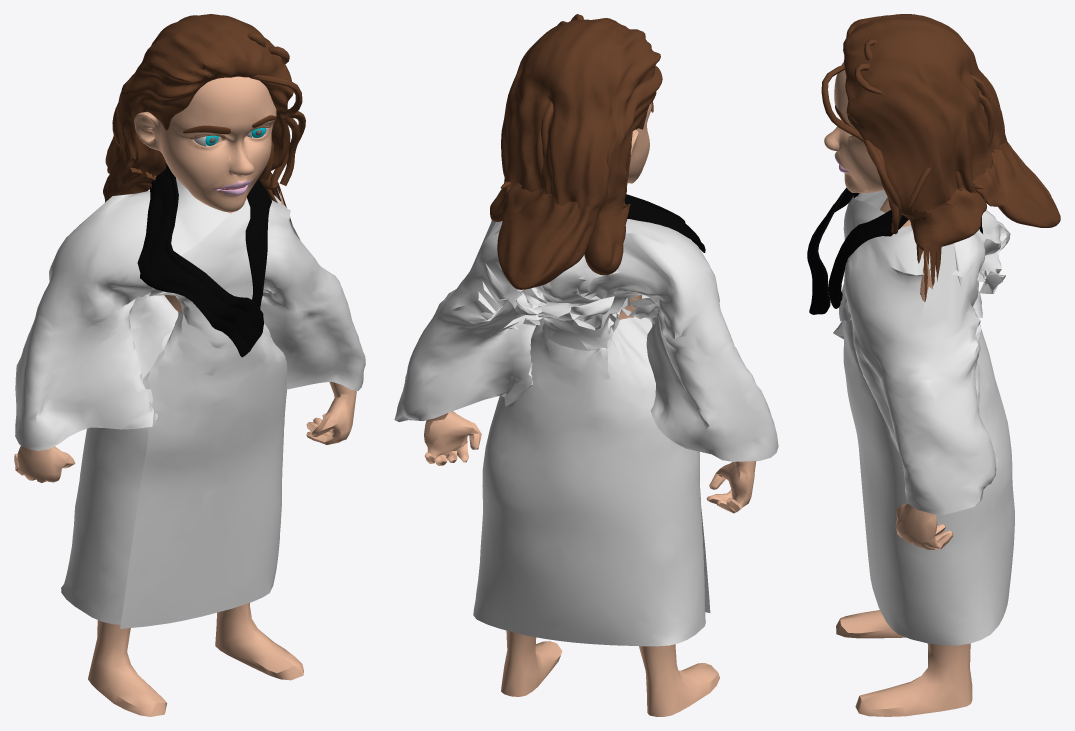
Rendered from aileen-3d.glb.
3 views of the same model, side by side, from view 1: azimuth 30°, elevation 25°; view 2: azimuth 150°, elevation 25°; view 3: azimuth 270°, elevation 25° (orthographic).
Parts seen in each view (by area): view 1: character; view 2: character; view 3: character.
Boxes of the visible parts, left/top/right/bottom form: character: left=14, top=14, right=365, bottom=716; character: left=394, top=14, right=778, bottom=716; character: left=807, top=14, right=1060, bottom=716.
Bounding box in the file's own units: 0.5655 × 1 × 0.3489.
